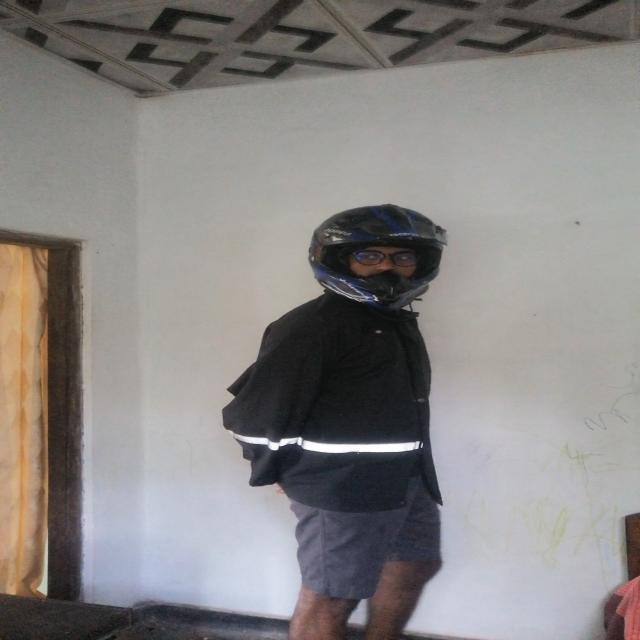Helmet_Wearer: (293, 198, 458, 318)
Jacket_Wearer: (222, 286, 452, 524)
Person: (227, 194, 453, 640)
